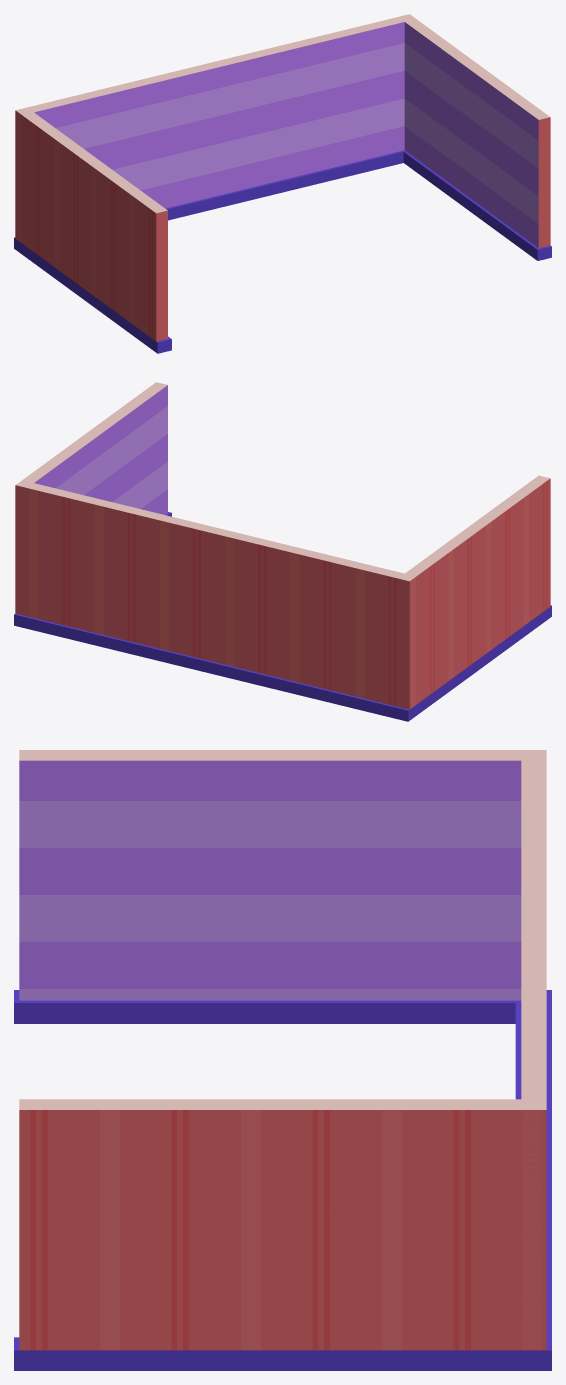
The model's file is Room02-8_Wall_geo.fbx.
3 renders of one model, top to bottom at view 1: azimuth 30°, elevation 25°; view 2: azimuth 150°, elevation 25°; view 3: azimuth 270°, elevation 25°, orthographic. The views are drawn at different scales.
Parts seen in each view (by area): view 1: Room02-8_Wall_geo; view 2: Room02-8_Wall_geo; view 3: Room02-8_Wall_geo.
Part boxes in pixels (x1,y1,x2,y2): Room02-8_Wall_geo: (14,14,551,353); Room02-8_Wall_geo: (14,382,551,721); Room02-8_Wall_geo: (14,750,551,1370).
Bounding box in the file's own units: 6.03 × 3.81 × 2.04.
